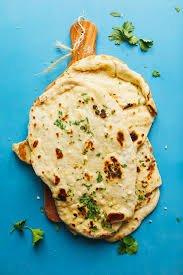Naan: (30, 20, 163, 243)
